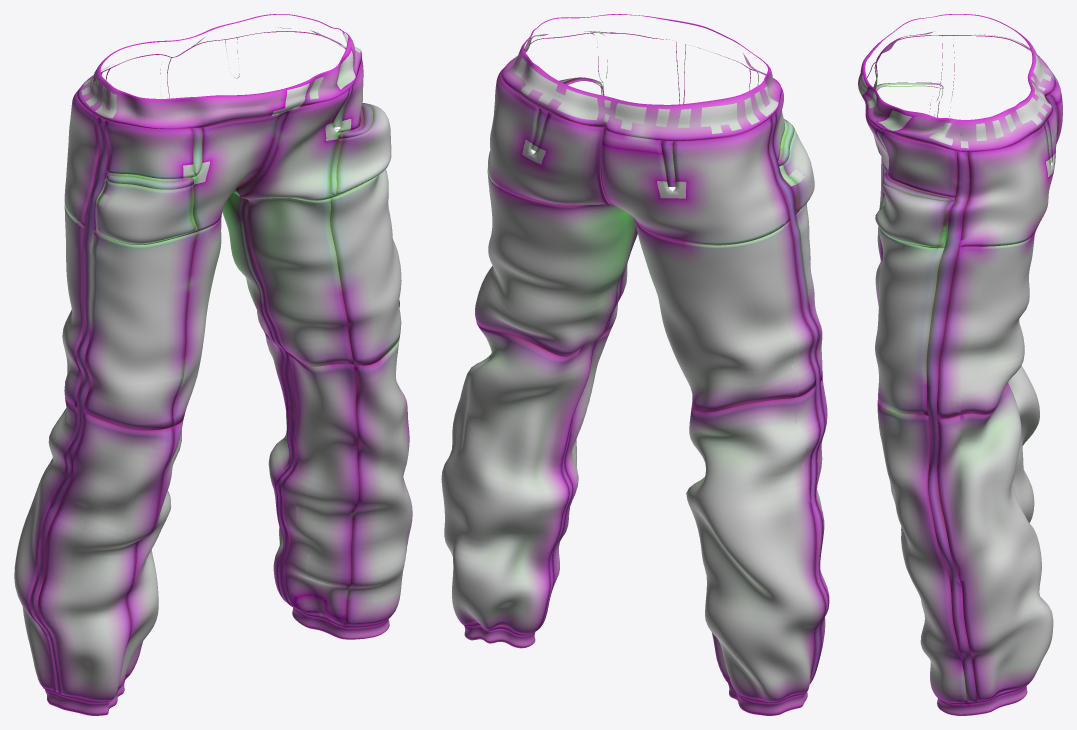
Rendered from cargo.glb.
3 views of the same model, side by side, from view 1: azimuth 30°, elevation 25°; view 2: azimuth 150°, elevation 25°; view 3: azimuth 270°, elevation 25° (orthographic). The views are drawn at different scales.
Parts seen in each view (by area): view 1: front, back, waistband, buttons; view 2: back, front, waistband, buttons; view 3: back, front, waistband, buttons.
Boxes of the visible parts, x1,y1,x2,y2 form: front: [30, 48, 412, 701]; back: [14, 31, 389, 715]; waistband: [77, 14, 361, 164]; buttons: [81, 33, 360, 206]; back: [441, 67, 825, 715]; front: [530, 32, 829, 683]; waistband: [501, 14, 781, 153]; buttons: [511, 31, 804, 198]; back: [937, 35, 1062, 715]; front: [865, 35, 976, 704]; waistband: [858, 14, 1061, 153]; buttons: [858, 34, 1054, 242].
Bounding box in the file's own units: 0.65 × 1.02 × 0.324.
